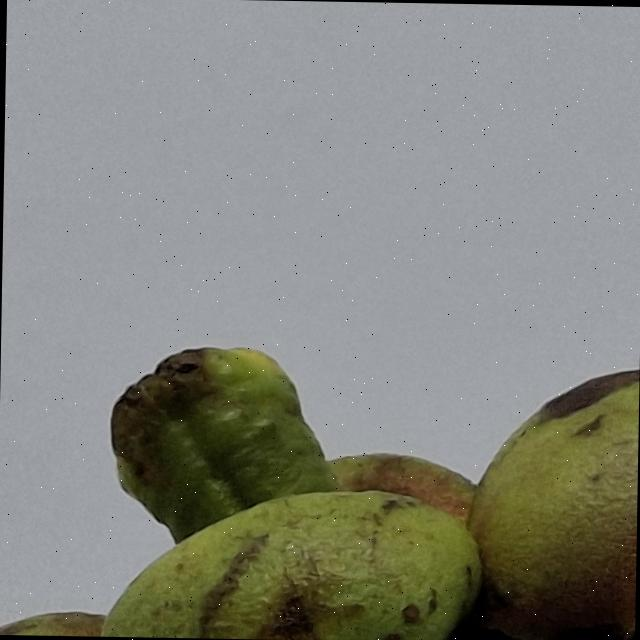mangosteen: (0, 124, 640, 640)
